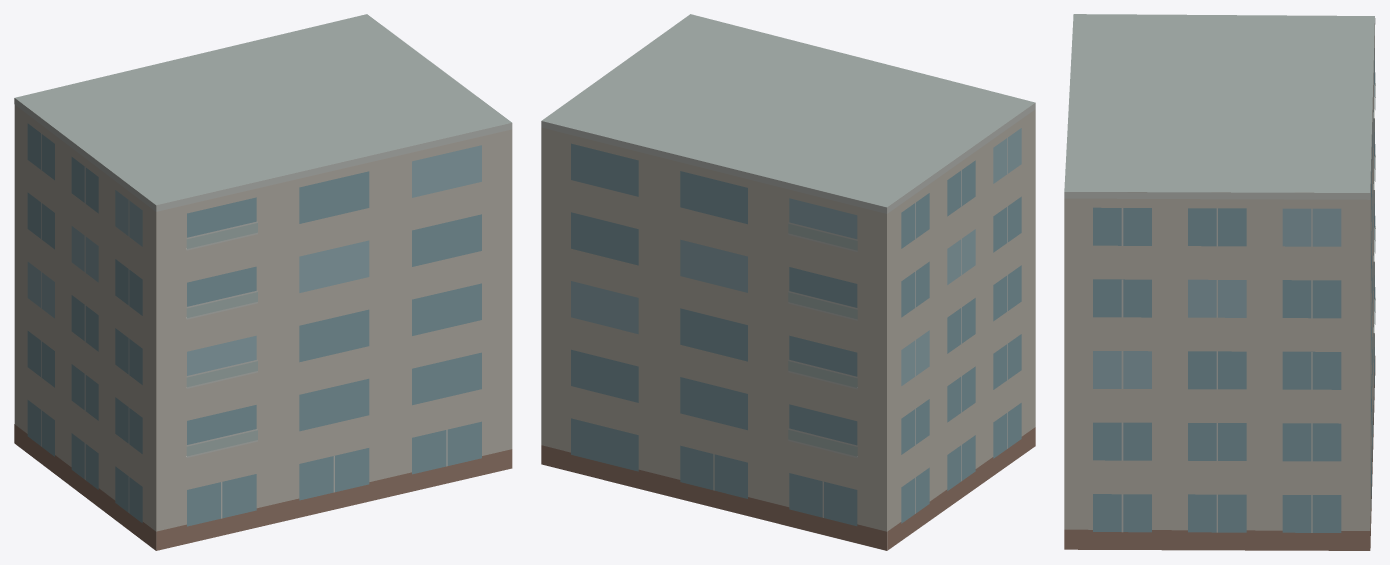
The model's file is survey-upis-33003002.glb.
3 views of the same model, side by side, from view 1: azimuth 30°, elevation 25°; view 2: azimuth 150°, elevation 25°; view 3: azimuth 270°, elevation 25° (orthographic). The views are drawn at different scales.
Parts seen in each view (by area): view 1: survey-upis-33003002.tmp; view 2: survey-upis-33003002.tmp; view 3: survey-upis-33003002.tmp.
Boxes of the visible parts, x1,y1,x2,y2 form: survey-upis-33003002.tmp: (14,14,512,550); survey-upis-33003002.tmp: (541,14,1035,550); survey-upis-33003002.tmp: (1064,14,1375,550).
Bounding box in the file's own units: 13.74 × 12.8 × 10.11.
